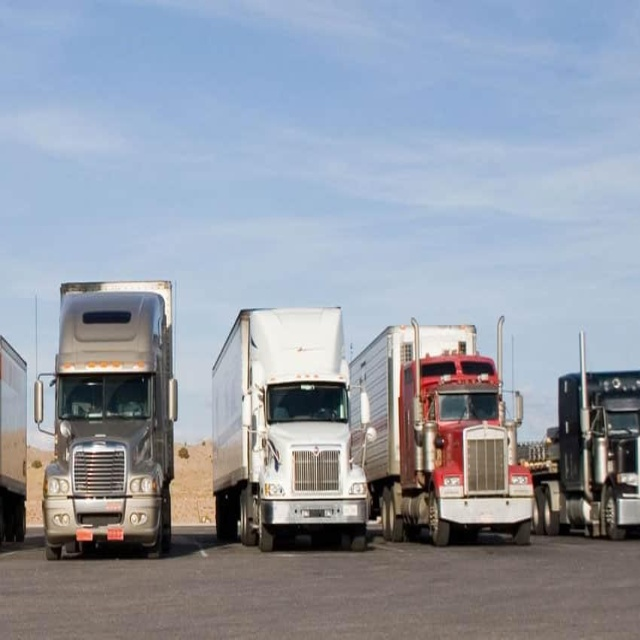Truck: (347, 316, 535, 549), (33, 279, 178, 561), (211, 306, 376, 553), (519, 331, 640, 541)
